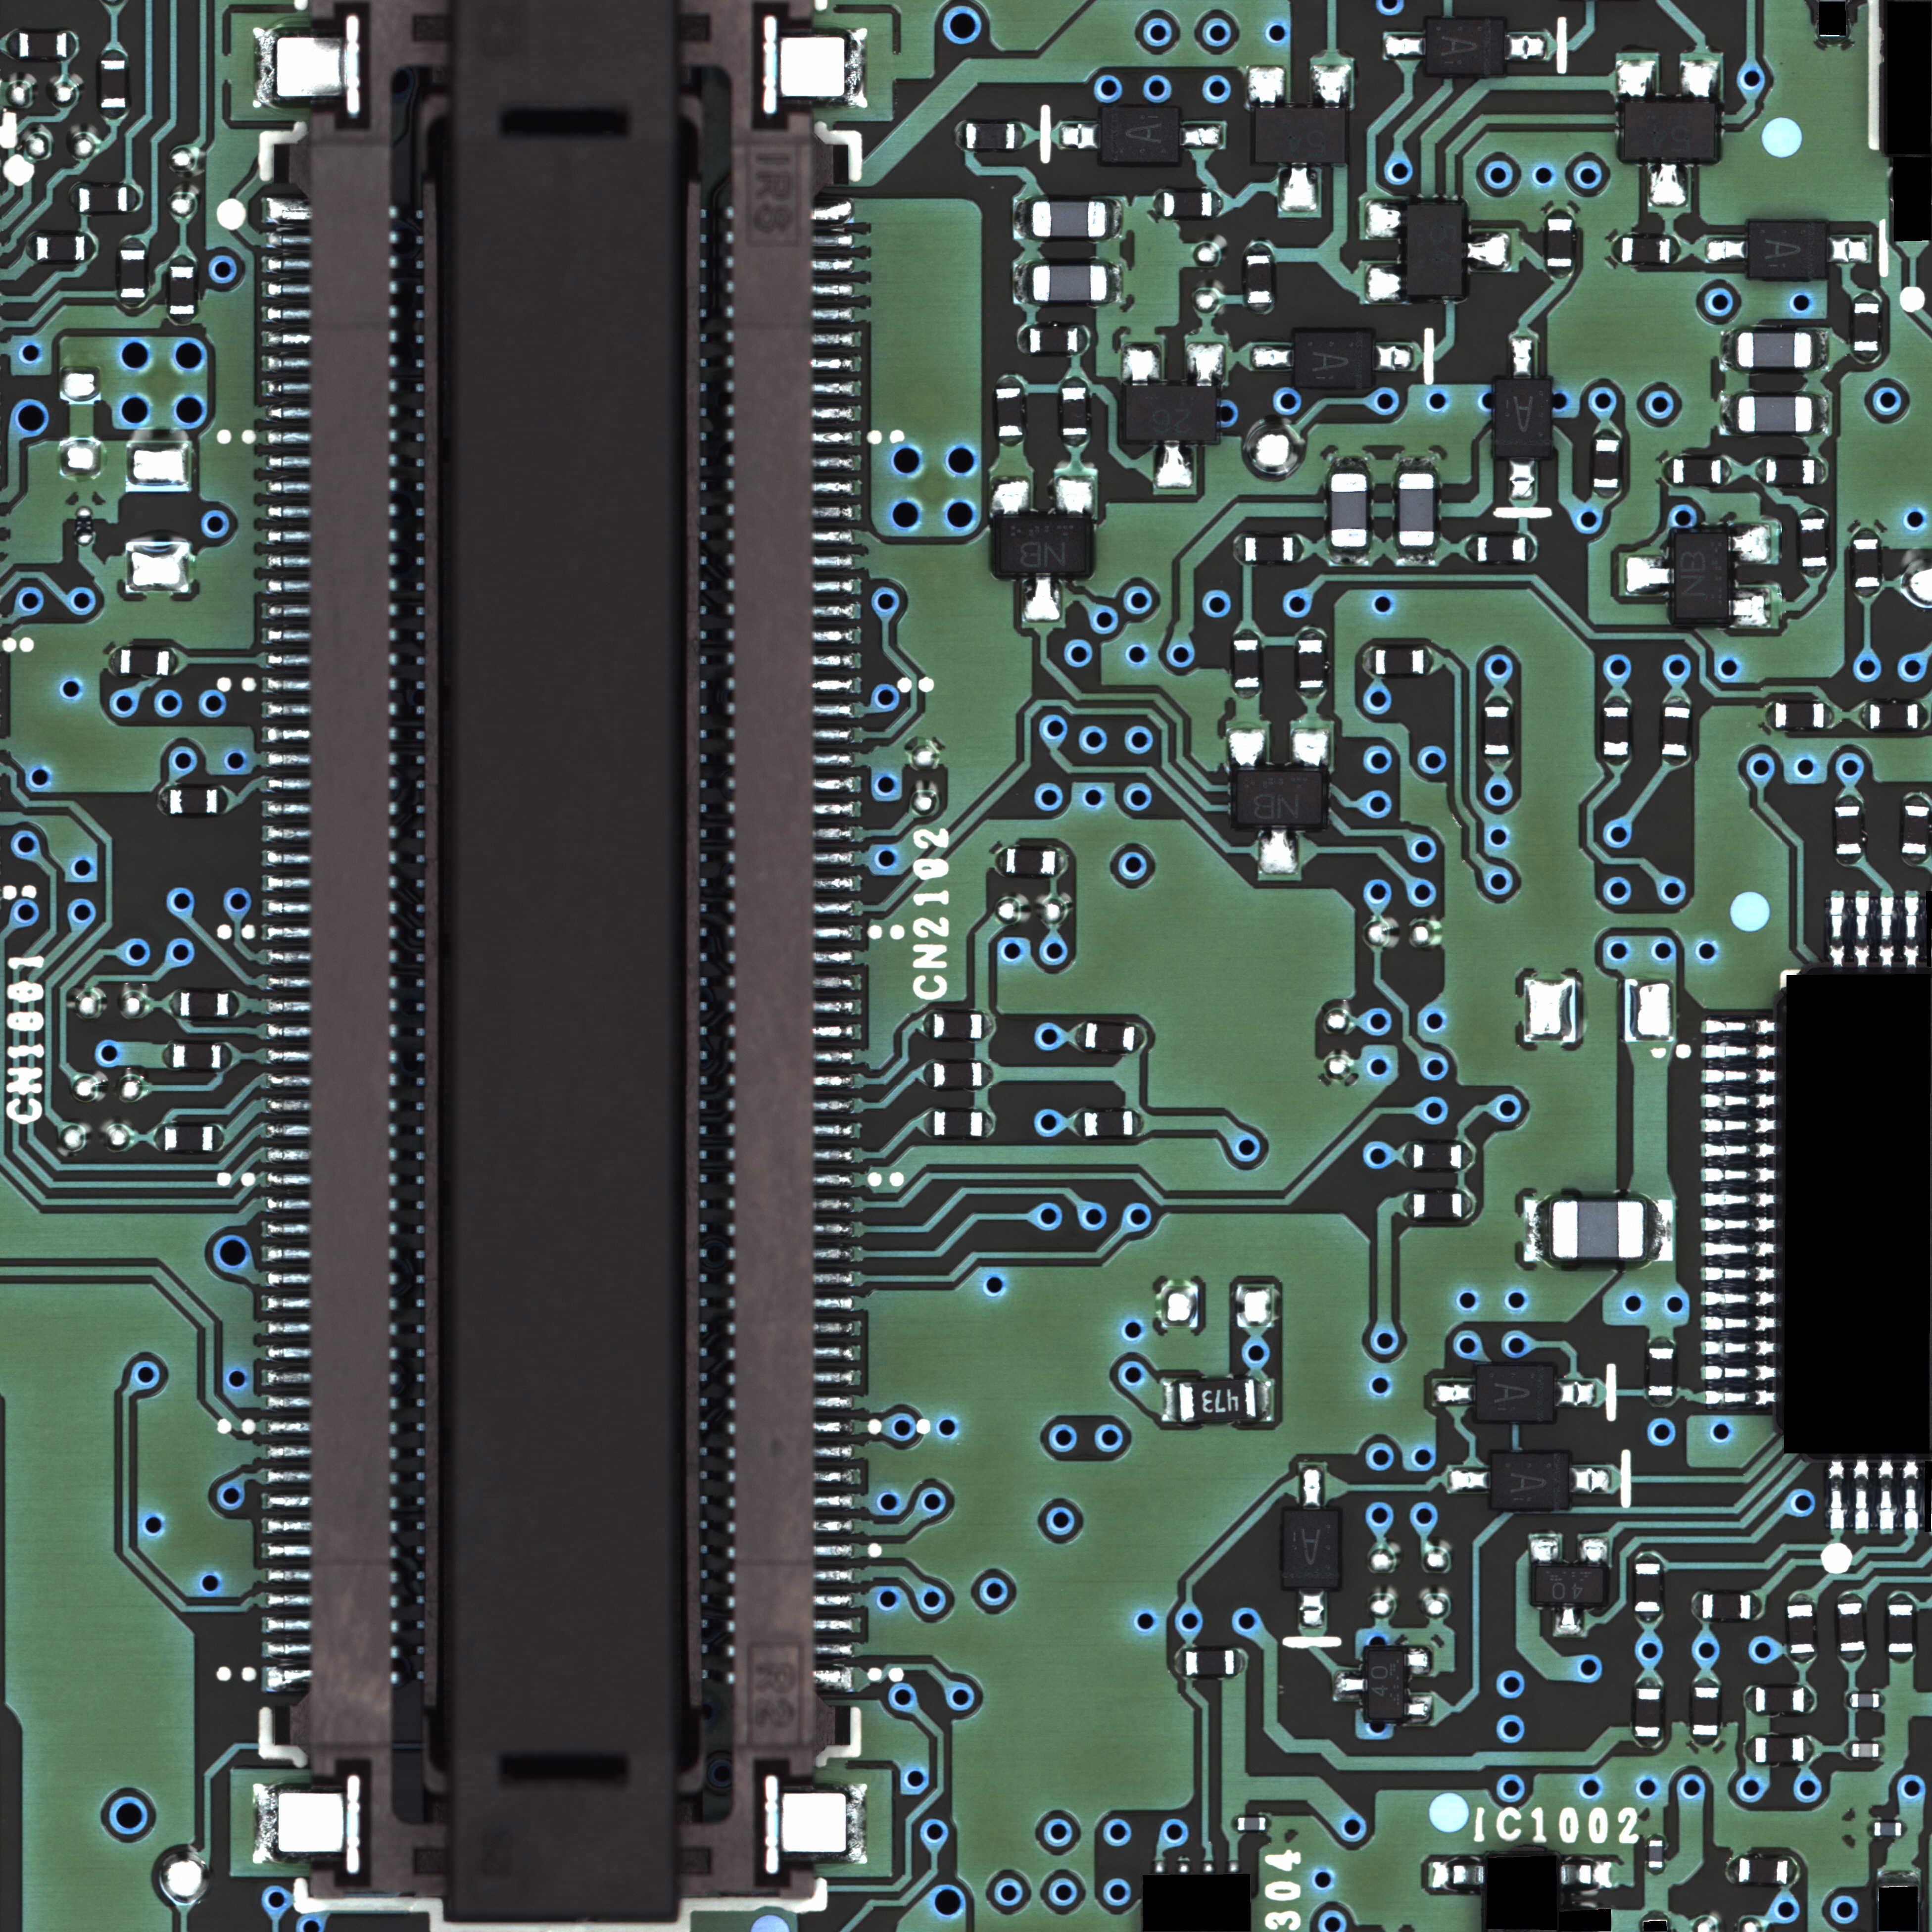Package: (1553, 1201, 1643, 1258), (1406, 204, 1462, 293), (1624, 103, 1714, 158), (995, 519, 1086, 573), (1126, 386, 1216, 440), (1256, 108, 1345, 162), (1236, 772, 1321, 825), (1676, 533, 1727, 619), (1101, 108, 1179, 163), (1283, 1509, 1339, 1588), (1294, 332, 1371, 386), (1492, 1454, 1568, 1509), (1496, 379, 1549, 456), (1427, 19, 1503, 73), (1749, 223, 1825, 277), (1478, 1367, 1553, 1420), (1179, 1380, 1256, 1421), (1738, 396, 1813, 432), (1033, 266, 1107, 301), (1331, 474, 1367, 547), (1032, 201, 1106, 237), (1738, 332, 1811, 367), (1399, 473, 1434, 546), (1535, 1568, 1605, 1602), (1369, 1650, 1403, 1719), (1787, 1604, 1814, 1652), (1837, 1603, 1866, 1651), (966, 123, 1014, 150), (1692, 1686, 1719, 1736), (1061, 387, 1088, 435), (1663, 707, 1689, 756), (1853, 539, 1880, 587), (1800, 517, 1827, 566), (1738, 1857, 1787, 1884), (1594, 439, 1621, 487), (19, 32, 67, 58), (1702, 1593, 1750, 1619), (1835, 806, 1862, 854), (119, 649, 168, 675), (1477, 536, 1526, 562), (1006, 848, 1055, 873), (1673, 458, 1722, 483), (1765, 459, 1814, 484), (1635, 1688, 1660, 1737), (1623, 237, 1670, 263), (1298, 640, 1323, 688), (933, 1013, 982, 1039), (934, 1062, 982, 1087), (934, 1111, 982, 1136), (1086, 1024, 1134, 1050), (1084, 1111, 1133, 1136), (1413, 1144, 1461, 1169), (1775, 702, 1824, 728), (996, 388, 1022, 436), (164, 1125, 212, 1151), (1902, 806, 1928, 854), (1413, 1193, 1462, 1218), (1246, 255, 1272, 303), (100, 59, 126, 107), (170, 266, 195, 314), (1234, 639, 1259, 687), (1185, 1650, 1233, 1675), (1870, 704, 1918, 729), (1636, 1563, 1661, 1611), (1163, 192, 1212, 217), (1755, 1738, 1803, 1762), (79, 187, 127, 212), (119, 249, 145, 297), (170, 788, 217, 814), (1547, 219, 1573, 266), (1245, 537, 1293, 562), (1375, 649, 1423, 674), (1756, 1688, 1804, 1712), (1888, 1605, 1913, 1652), (180, 992, 228, 1016), (173, 1044, 221, 1069), (1030, 328, 1077, 353), (1603, 707, 1628, 755), (1854, 303, 1879, 350), (1649, 1348, 1673, 1395), (1485, 707, 1508, 754), (37, 237, 84, 260), (1648, 1840, 1663, 1868), (1238, 1817, 1265, 1831), (1852, 1694, 1879, 1707), (1852, 1743, 1879, 1757), (1875, 1823, 1901, 1836)
Solder: (1257, 825, 1300, 874), (1153, 441, 1194, 490), (1280, 163, 1320, 213), (1022, 574, 1063, 623), (1626, 555, 1674, 595), (1462, 231, 1510, 271), (1644, 1200, 1674, 1261), (1614, 60, 1658, 102), (1523, 1197, 1551, 1261), (1054, 476, 1096, 518), (1727, 522, 1771, 563), (1290, 726, 1331, 771), (1649, 159, 1688, 206), (1679, 60, 1721, 102), (1312, 64, 1352, 108), (1227, 726, 1267, 771), (1121, 343, 1162, 385), (1729, 587, 1772, 628), (1186, 341, 1225, 385), (1365, 197, 1405, 239), (1363, 262, 1405, 303), (990, 476, 1030, 518), (1249, 65, 1286, 108), (1428, 1861, 1485, 1887), (1561, 1862, 1612, 1888), (1827, 1459, 1844, 1528), (1904, 895, 1920, 966), (1505, 34, 1548, 61), (1554, 1380, 1597, 1407), (1569, 1467, 1612, 1494), (1374, 343, 1413, 373), (1508, 458, 1535, 500), (1180, 123, 1224, 149), (1298, 1588, 1325, 1630), (1853, 1459, 1869, 1528), (1880, 896, 1895, 967), (1830, 896, 1845, 967), (1854, 896, 1870, 966), (1334, 1670, 1368, 1701), (1902, 1459, 1918, 1529), (1878, 1459, 1893, 1528), (1826, 238, 1868, 263), (1251, 343, 1293, 370), (1510, 335, 1535, 379), (1705, 1390, 1776, 1405), (1705, 1365, 1776, 1381), (1705, 1316, 1776, 1332), (1705, 1341, 1776, 1356), (1705, 1267, 1776, 1282), (1705, 1291, 1776, 1306), (1703, 1020, 1774, 1036), (1703, 1046, 1774, 1061), (1704, 1070, 1775, 1085), (1704, 1094, 1775, 1110), (1703, 1119, 1774, 1134), (1704, 1168, 1775, 1184), (1703, 1192, 1774, 1207), (1705, 1218, 1775, 1233), (1704, 1144, 1775, 1159), (1060, 123, 1101, 149), (1705, 1243, 1775, 1257), (1553, 1603, 1584, 1637), (1385, 34, 1425, 59), (1301, 1466, 1324, 1509), (1529, 1536, 1560, 1568), (1706, 238, 1747, 261), (1434, 1382, 1476, 1405), (1448, 1469, 1490, 1492), (1578, 1537, 1609, 1567), (1403, 1646, 1434, 1676), (1404, 1694, 1435, 1724), (1395, 547, 1437, 566), (1014, 261, 1032, 305), (1328, 547, 1370, 565), (1397, 454, 1439, 472), (1719, 394, 1738, 435), (1719, 328, 1736, 372), (1329, 454, 1368, 472), (1014, 198, 1031, 239), (1877, 1869, 1919, 1885), (1813, 330, 1829, 371), (1814, 394, 1829, 435), (1107, 200, 1122, 240), (1108, 263, 1123, 304), (1256, 1381, 1271, 1421), (1162, 1380, 1177, 1420), (1060, 436, 1089, 449), (1246, 241, 1271, 255), (1546, 267, 1575, 280), (1016, 326, 1028, 355), (127, 185, 140, 211), (1801, 566, 1827, 580), (1485, 755, 1511, 768), (1663, 756, 1690, 769), (1763, 701, 1775, 729), (85, 233, 97, 262), (5, 31, 19, 56), (1670, 236, 1683, 262), (1902, 792, 1929, 805), (157, 788, 169, 814), (107, 647, 119, 675), (1787, 1856, 1798, 1884), (212, 1126, 225, 1152), (1247, 303, 1272, 315), (996, 375, 1021, 387), (25, 231, 36, 260), (218, 787, 230, 814), (1015, 124, 1027, 150), (1753, 457, 1765, 484), (1464, 535, 1476, 562), (921, 1061, 933, 1088), (983, 1061, 995, 1088), (983, 1110, 995, 1138), (1135, 1024, 1147, 1052), (1462, 1142, 1474, 1170), (1401, 1142, 1412, 1170), (1726, 1856, 1737, 1884), (1663, 693, 1688, 706), (1648, 1335, 1673, 1347), (119, 236, 144, 249), (1816, 458, 1828, 484), (1232, 535, 1244, 562), (1854, 587, 1881, 599), (1888, 1652, 1914, 1664), (1839, 1652, 1865, 1664), (1788, 1653, 1815, 1665), (1298, 626, 1321, 639), (921, 1110, 933, 1137), (1462, 1191, 1474, 1218), (1234, 1649, 1246, 1677), (1634, 1737, 1661, 1748), (1819, 37, 1849, 47), (1858, 704, 1870, 729), (99, 108, 126, 120), (1852, 527, 1879, 538), (1693, 1736, 1720, 1747), (1526, 534, 1537, 562), (921, 1012, 932, 1039), (1073, 1110, 1084, 1138), (1074, 1023, 1085, 1051), (1401, 1193, 1412, 1221), (1751, 1592, 1762, 1620), (1690, 1592, 1701, 1619), (953, 123, 965, 148), (997, 436, 1023, 448), (1918, 704, 1930, 730), (1636, 1612, 1662, 1624), (1612, 235, 1622, 264), (983, 1013, 994, 1040), (1134, 1110, 1145, 1137), (1787, 1592, 1814, 1603), (1838, 1592, 1865, 1602), (169, 254, 193, 266), (1854, 290, 1878, 303), (229, 991, 240, 1017), (1800, 505, 1826, 517), (1234, 689, 1260, 700), (1362, 648, 1374, 674), (1837, 854, 1863, 866), (1078, 327, 1089, 354), (1824, 702, 1835, 728), (1234, 628, 1258, 639), (1744, 1686, 1755, 1713), (1594, 428, 1619, 439), (1835, 794, 1860, 806), (221, 1043, 232, 1069), (1056, 848, 1066, 874), (995, 848, 1006, 874), (1174, 1648, 1185, 1676), (1887, 1594, 1915, 1604), (1905, 855, 1930, 867), (170, 315, 195, 326), (168, 991, 179, 1017), (153, 1125, 164, 1151), (1661, 457, 1672, 483), (1213, 191, 1223, 218), (1805, 1686, 1815, 1712), (161, 1044, 173, 1068), (1061, 375, 1086, 386), (170, 648, 180, 676), (119, 298, 145, 308), (99, 48, 124, 59), (1153, 191, 1162, 218), (1804, 1735, 1814, 1762), (1294, 536, 1304, 562), (1425, 648, 1435, 674), (68, 183, 78, 210), (1604, 695, 1627, 707), (1745, 1737, 1755, 1763), (1634, 1677, 1660, 1687), (1596, 488, 1620, 499), (1642, 1909, 1669, 1919), (1722, 458, 1733, 483), (1299, 690, 1324, 700), (1484, 695, 1509, 706), (1690, 1677, 1719, 1686), (1635, 1553, 1661, 1563), (1855, 351, 1879, 362), (1605, 756, 1628, 767), (1546, 208, 1571, 218), (1648, 1397, 1674, 1406), (68, 32, 76, 58), (1176, 1861, 1190, 1874), (1226, 1860, 1240, 1873), (1201, 1862, 1215, 1874), (1153, 1861, 1166, 1874), (1647, 1868, 1664, 1877), (1866, 1821, 1874, 1837), (1901, 1821, 1909, 1836), (1844, 1742, 1851, 1758), (1843, 1694, 1851, 1707), (1230, 1816, 1237, 1831), (1648, 1833, 1661, 1840), (1265, 1817, 1272, 1831), (1879, 1742, 1885, 1756), (1880, 1693, 1886, 1707)
